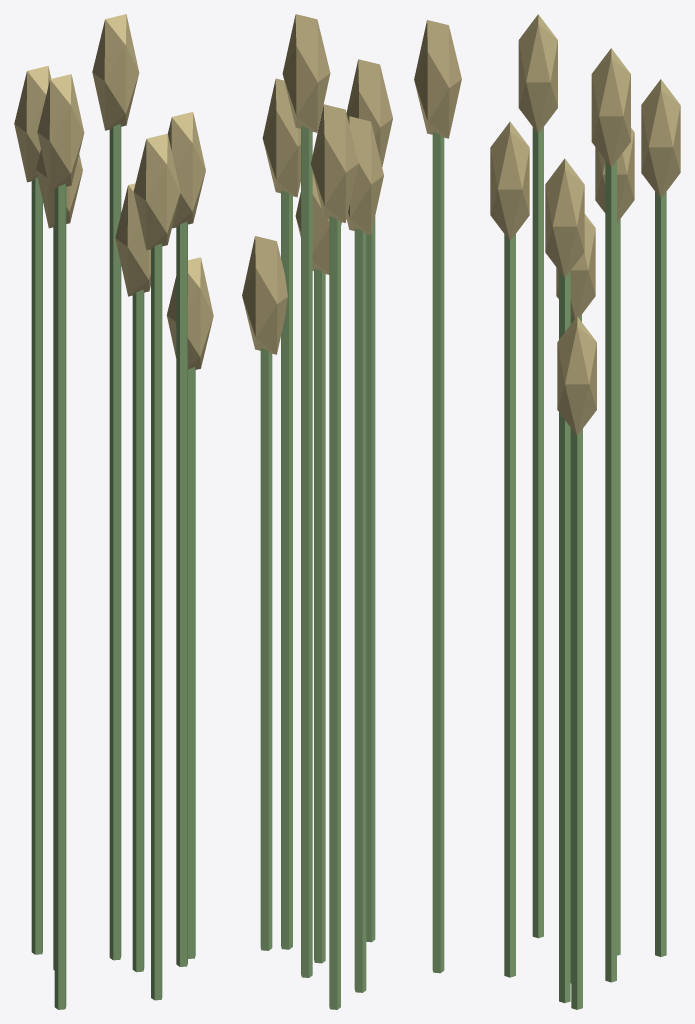
File: veg_reed_01.glb
3 renders of one model, left to right at view 1: azimuth 30°, elevation 25°; view 2: azimuth 150°, elevation 25°; view 3: azimuth 270°, elevation 25°, orthographic. The views are drawn at different scales.
Visible parts, largest first — view 1: stem_6, stem_4, stem_0, stem_5, stem_7, stem_2, stem_1, head_5, head_4, head_6, head_7, head_1 (+4 smaller); view 2: stem_6, stem_4, stem_3, stem_0, stem_7, stem_2, stem_1, stem_5, head_0, head_4, head_6, head_1 (+4 smaller); view 3: stem_4, stem_6, stem_0, stem_5, stem_7, stem_1, head_1, head_4, head_6, head_0, head_5, head_7 (+4 smaller).
Boxes of the visible parts, x1,y1,x2,y2 form: stem_6: [54, 183, 66, 1009]; stem_4: [109, 124, 121, 960]; stem_0: [31, 177, 42, 954]; stem_5: [151, 243, 162, 1000]; stem_7: [176, 221, 187, 966]; stem_2: [132, 289, 144, 972]; stem_1: [188, 367, 195, 958]; head_5: [133, 133, 180, 250]; head_4: [92, 14, 139, 130]; head_6: [37, 74, 84, 190]; head_7: [168, 112, 205, 228]; head_1: [166, 257, 213, 369]; stem_6: [432, 131, 444, 973]; stem_4: [301, 126, 312, 977]; stem_3: [354, 228, 366, 992]; stem_0: [329, 216, 340, 1009]; stem_7: [281, 190, 292, 949]; stem_2: [314, 268, 325, 963]; stem_1: [260, 347, 272, 950]; stem_5: [366, 216, 375, 942]; head_0: [311, 104, 358, 222]; head_4: [282, 14, 330, 132]; head_6: [414, 20, 461, 138]; head_1: [242, 236, 287, 354]; stem_4: [605, 160, 616, 982]; stem_6: [532, 127, 543, 938]; stem_0: [655, 191, 666, 956]; stem_5: [504, 234, 515, 977]; stem_7: [559, 271, 570, 1003]; stem_1: [571, 429, 582, 1009]; head_1: [557, 316, 596, 435]; head_4: [591, 48, 630, 167]; head_6: [518, 14, 557, 133]; head_0: [641, 79, 680, 198]; head_5: [490, 121, 529, 240]; head_7: [545, 158, 584, 277].
Size of the model in its own units: 0.4106 by 2.01 by 0.3738.
